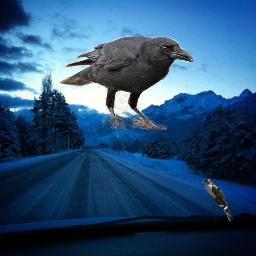Crow: (59, 36, 194, 130)
Cuckoo: (202, 179, 234, 221)
